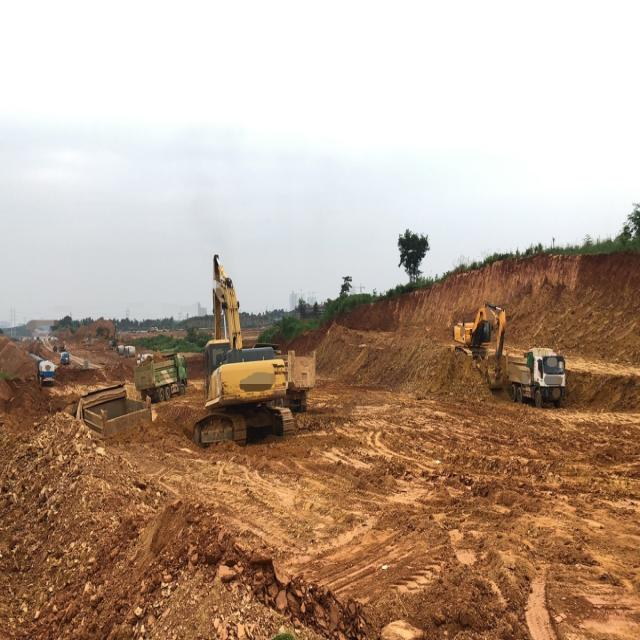excavator: (192, 253, 294, 449), (452, 300, 506, 390)
truck: (251, 343, 316, 412), (505, 347, 566, 408), (133, 353, 187, 402)
